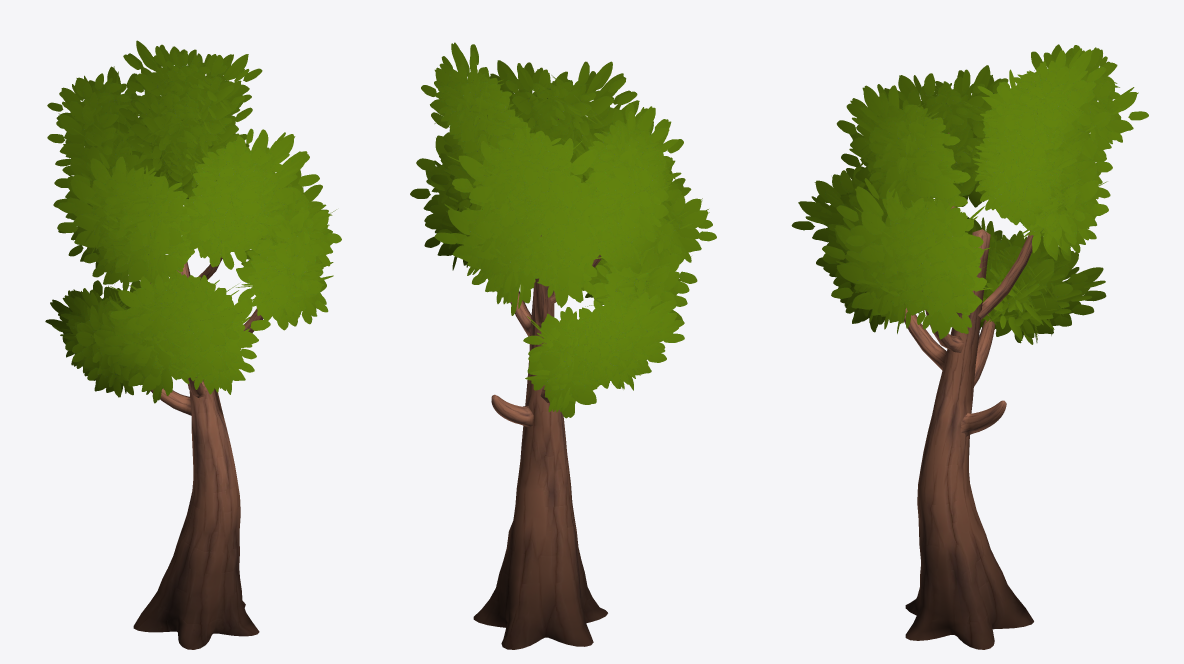
The model's file is CommonTree_5.glb.
3 views of the same model, side by side, from view 1: azimuth 30°, elevation 25°; view 2: azimuth 150°, elevation 25°; view 3: azimuth 270°, elevation 25° (orthographic). The views are drawn at different scales.
Parts seen in each view (by area): view 1: CommonTree_5; view 2: CommonTree_5; view 3: CommonTree_5.
Boxes of the visible parts, x1,y1,x2,y2 form: CommonTree_5: [45, 40, 341, 649]; CommonTree_5: [410, 42, 716, 649]; CommonTree_5: [791, 44, 1148, 649].
Size of the model in its own units: 3.67 by 7.01 by 4.22.
Materials: 2 (2 with a texture image).
